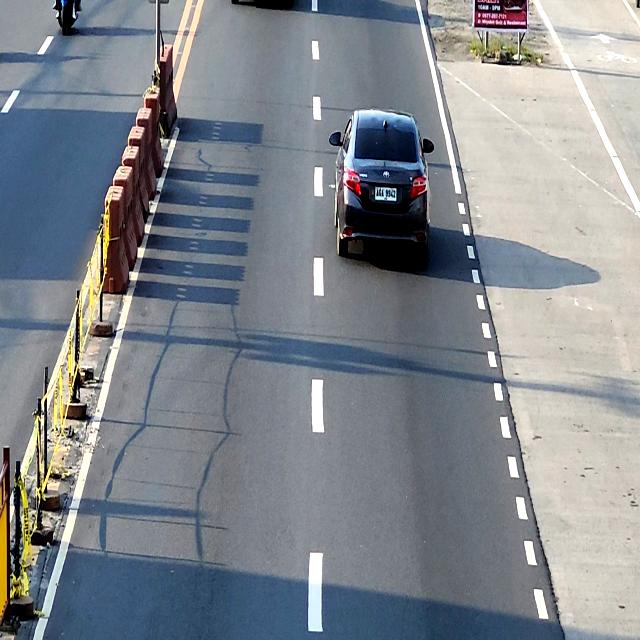Car: (330, 108, 435, 268)
License-Plate: (375, 187, 397, 201)
